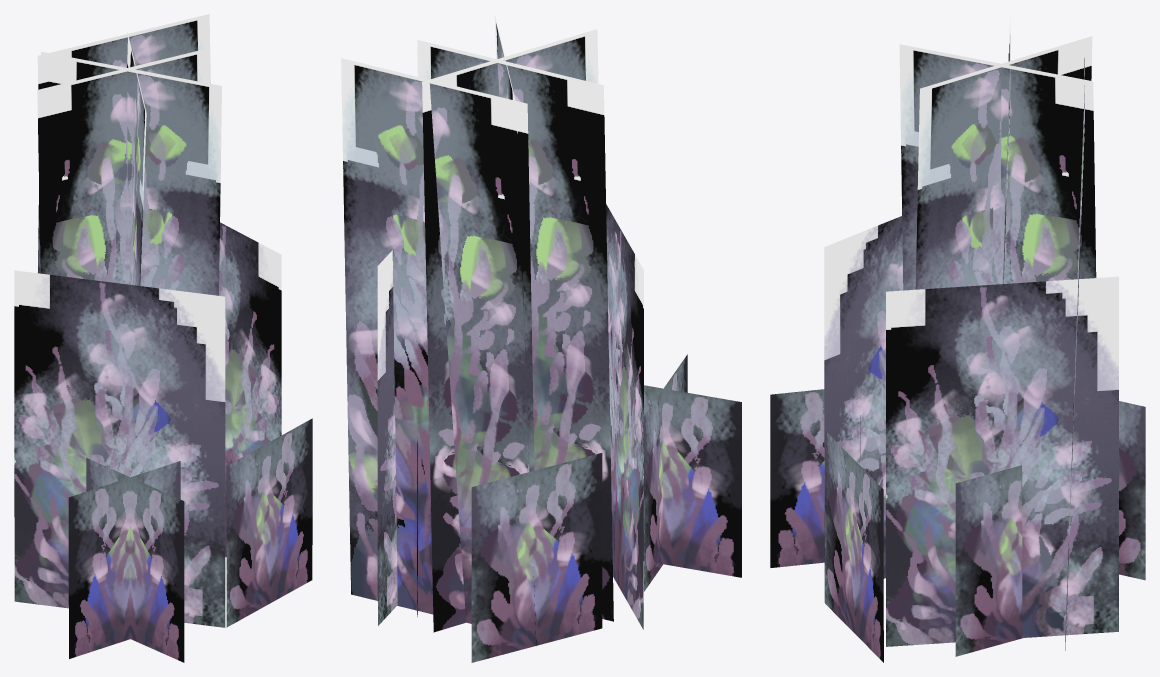
The model's file is S_Bush_01.fbx.
3 views of the same model, side by side, from view 1: azimuth 30°, elevation 25°; view 2: azimuth 150°, elevation 25°; view 3: azimuth 270°, elevation 25° (orthographic). The views are drawn at different scales.
Visible parts, largest first — view 1: S_Bush_01_LP; view 2: S_Bush_01_LP; view 3: S_Bush_01_LP.
Boxes of the visible parts, x1,y1,x2,y2 form: S_Bush_01_LP: [14, 14, 312, 662]; S_Bush_01_LP: [341, 15, 741, 662]; S_Bush_01_LP: [770, 17, 1145, 662].
Bounding box in the file's own units: 1.54 × 2.78 × 1.77.
